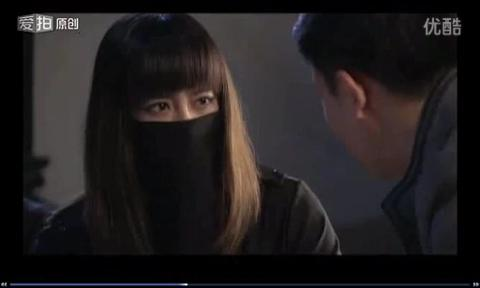OK: (131, 80, 222, 184)
